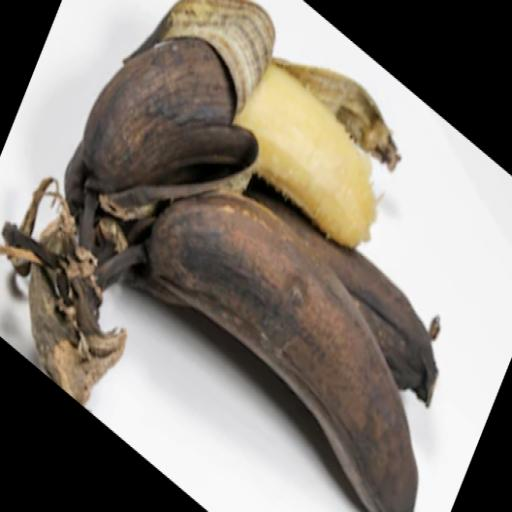banana-overripe: (0, 0, 482, 512)
